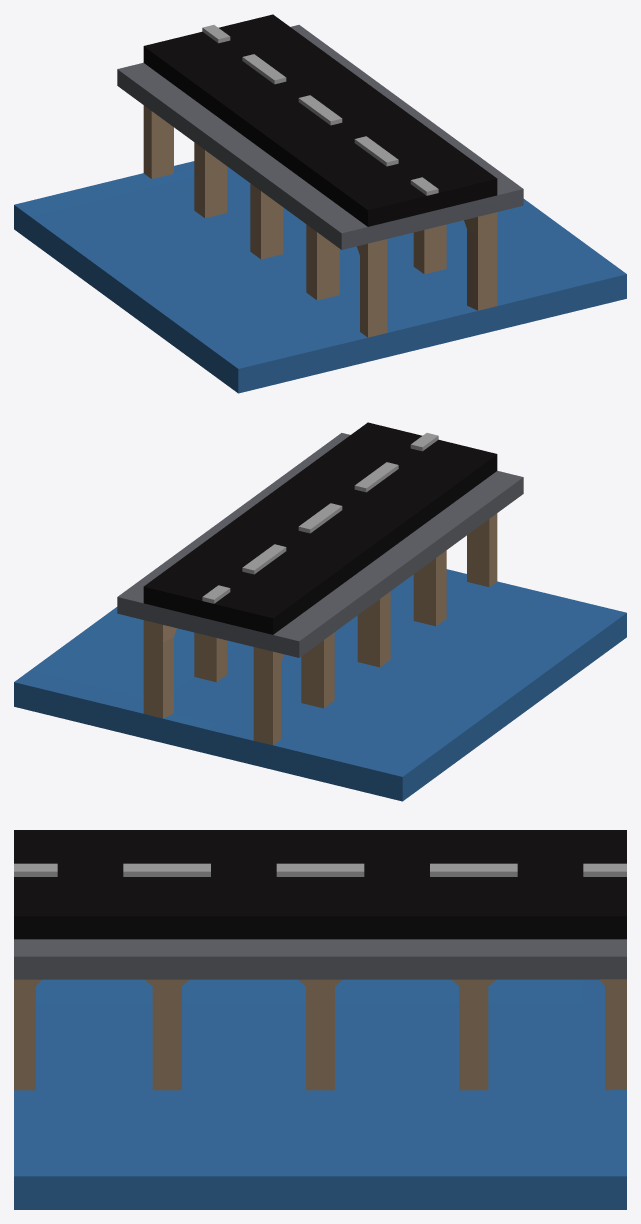
The picture shows the model from 3 angles, top to bottom: view 1: azimuth 30°, elevation 25°; view 2: azimuth 150°, elevation 25°; view 3: azimuth 270°, elevation 25°; orthographic projection. The views are drawn at different scales.
Visible parts, largest first — view 1: Street_Bridge_Water_Cube.011; view 2: Street_Bridge_Water_Cube.011; view 3: Street_Bridge_Water_Cube.011.
Part boxes in pixels (x1,y1,x2,y2): Street_Bridge_Water_Cube.011: (14, 14, 626, 393); Street_Bridge_Water_Cube.011: (14, 422, 626, 801); Street_Bridge_Water_Cube.011: (14, 830, 626, 1209).
Size of the model in its own units: 2 by 0.7659 by 2.
